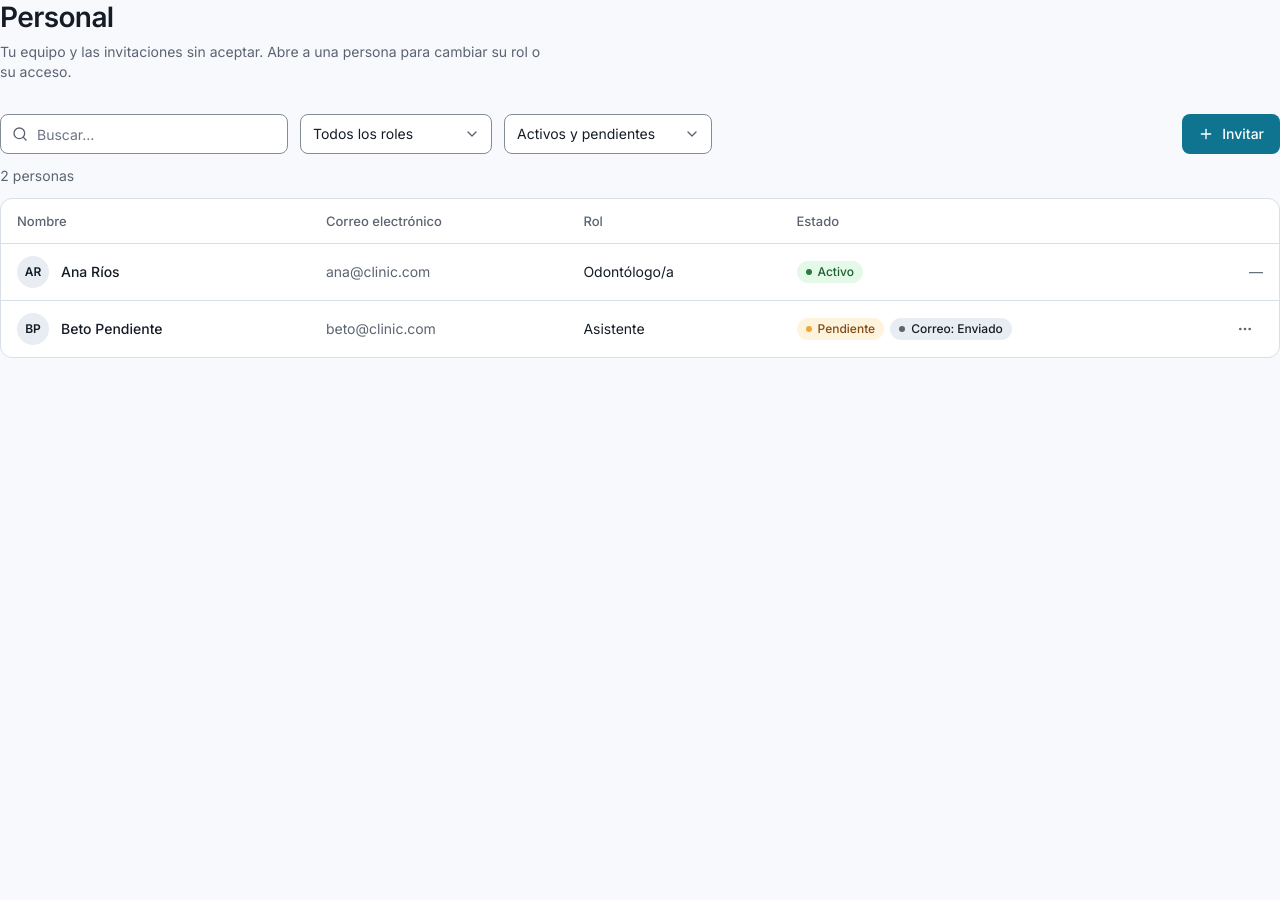
Test case: StaffView › DX-029: si el correo no se pudo programar, avisa con «Reintentar» y nunca muestra un enlace
The width and height of the screenshot is (1280, 900).
Expected: the table named "personal" is shown, [1,199,1279,356]
Click the button named "acciones de Beto": click(1245, 328) [1227,310,1263,346]
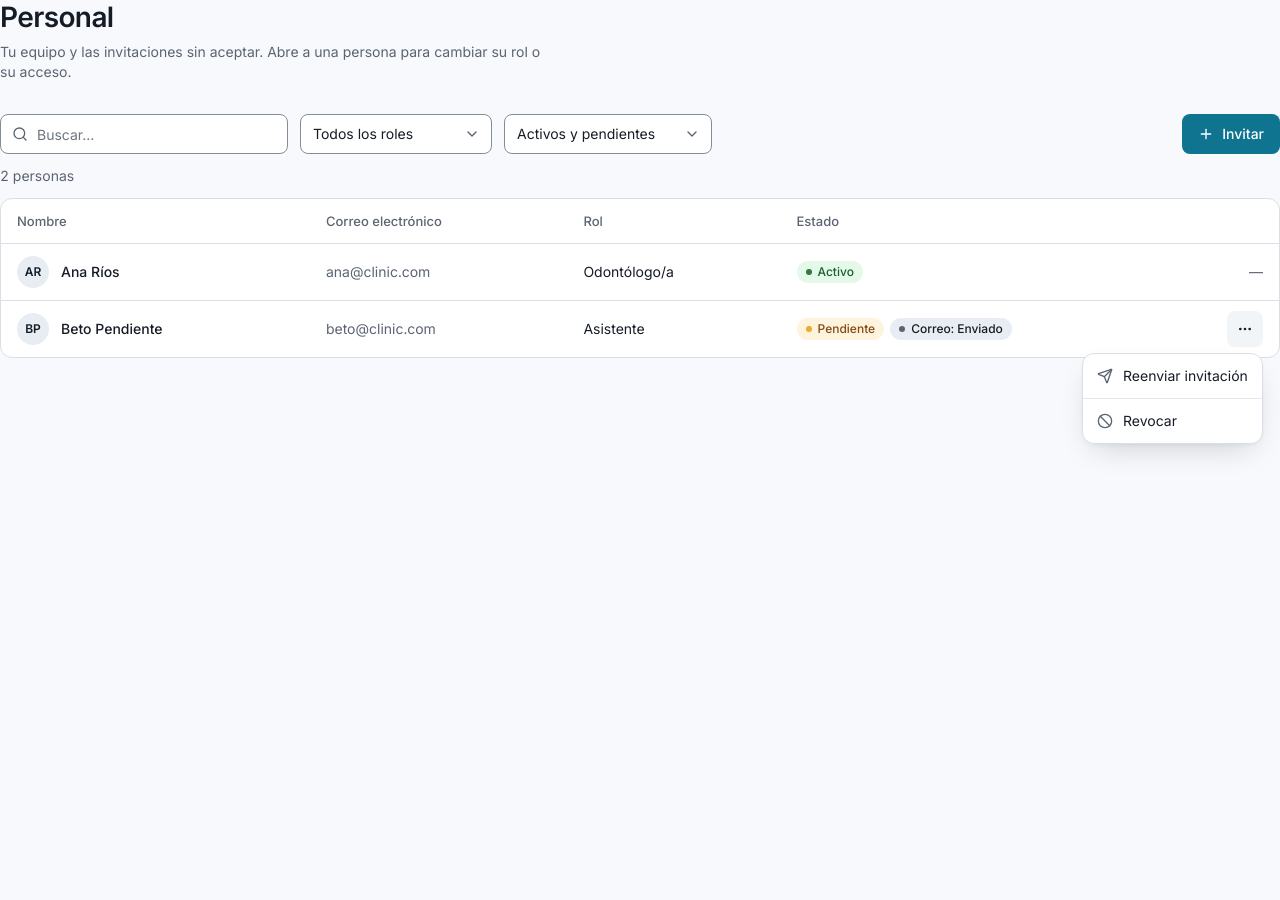
Click the menu item "Reenviar invitación": click(1172, 376) [1097,367,1248,384]
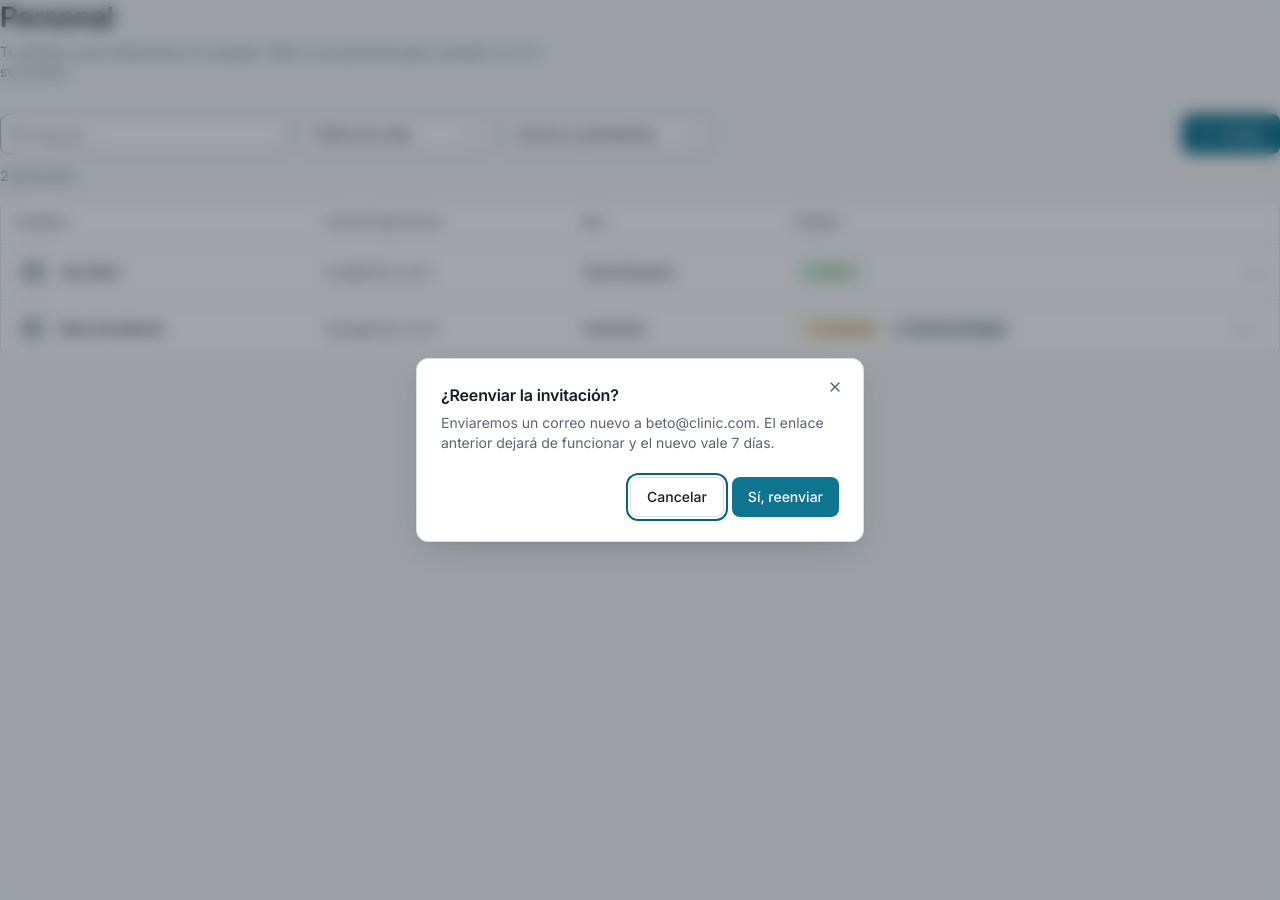
Click the button "Sí, reenviar": click(785, 497) [732,477,839,517]
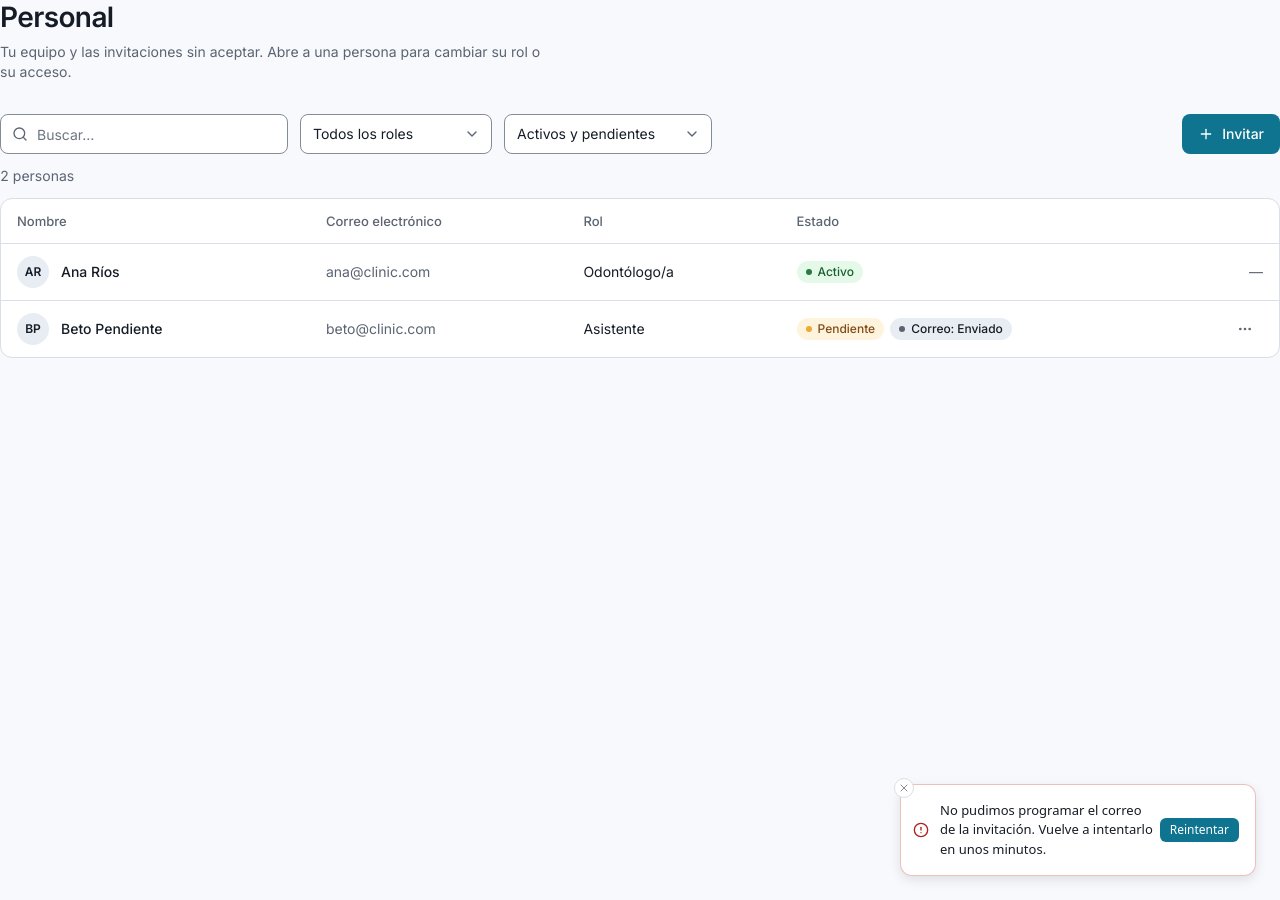
Expected: the text "No pudimos programar el correo de la invitación" is shown, [940,800,1153,858]
Expected: the button "Reintentar" is shown, [1160,818,1239,842]
